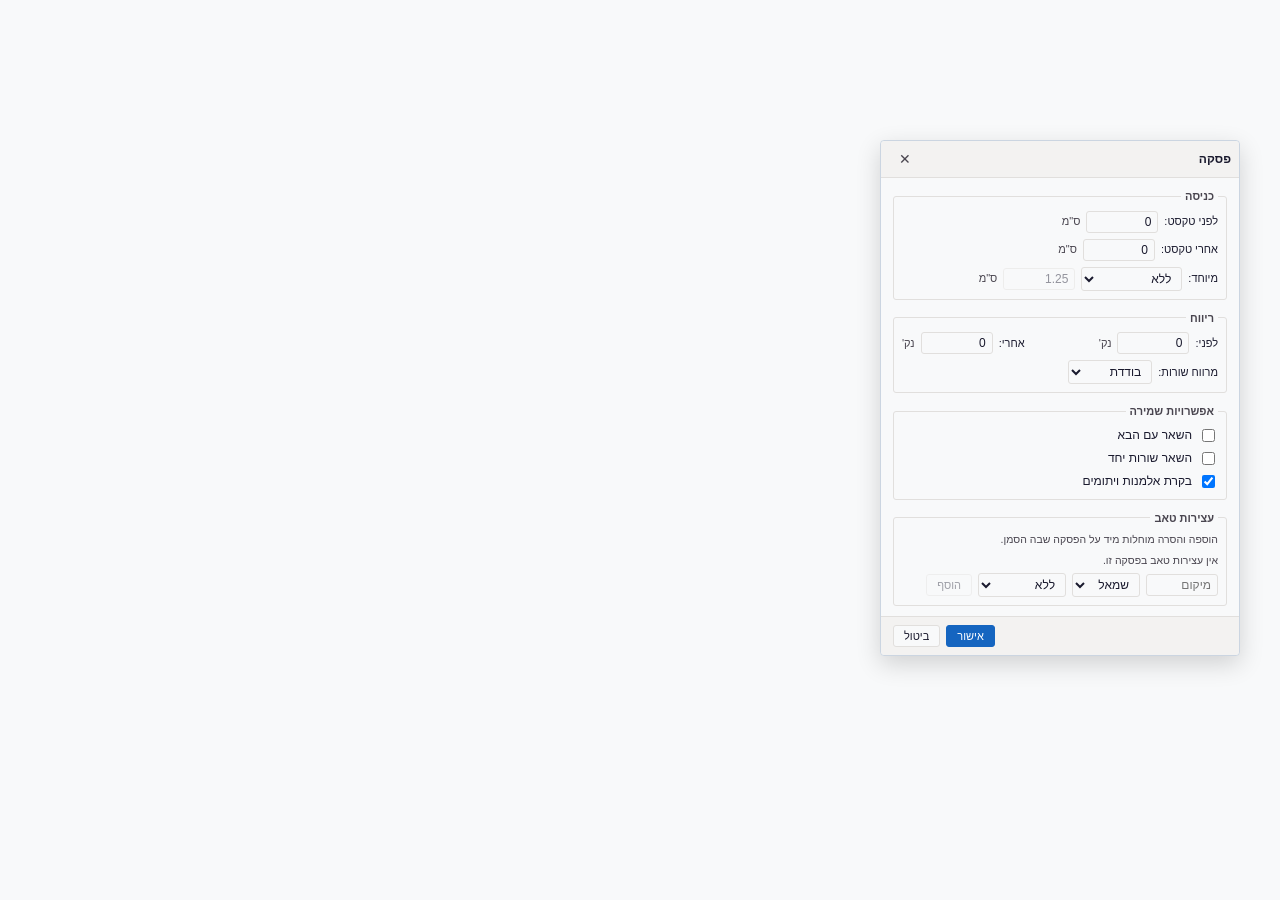
Test case: ParagraphDialog (בדיד) › ערך שלילי חוסם את „אישור” עם הסבר
The image size is (1280, 900).
Replace the text in the number field labelled "לפני טקסט:" with "-5" at x=1122, y=222, box [1086,210,1158,232]
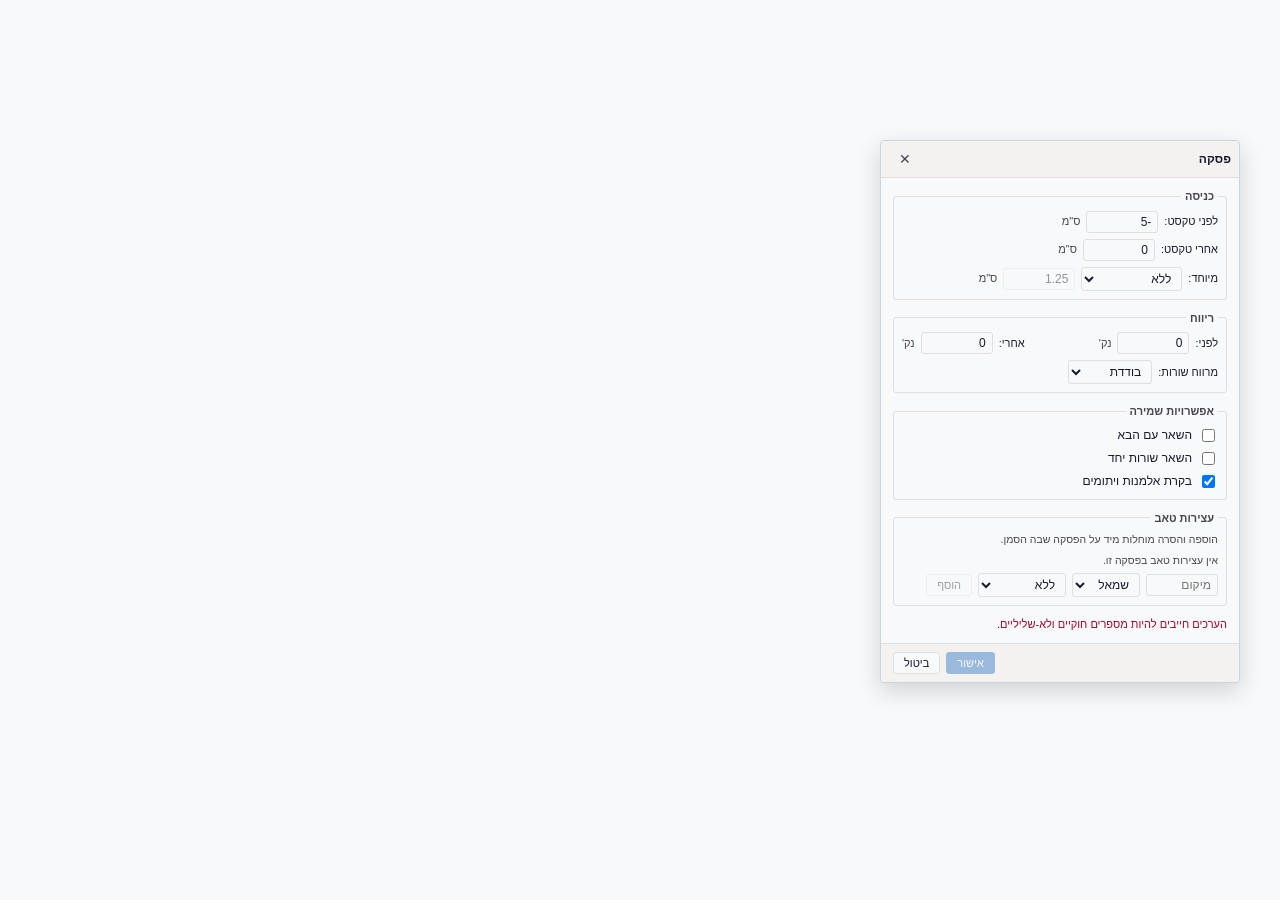
Now the message "הערכים חייבים להיות מספרים חוקיים ולא-שליליים." is shown, box [997,618,1227,630]
Now the button "אישור" is disabled, box [946,652,995,674]
